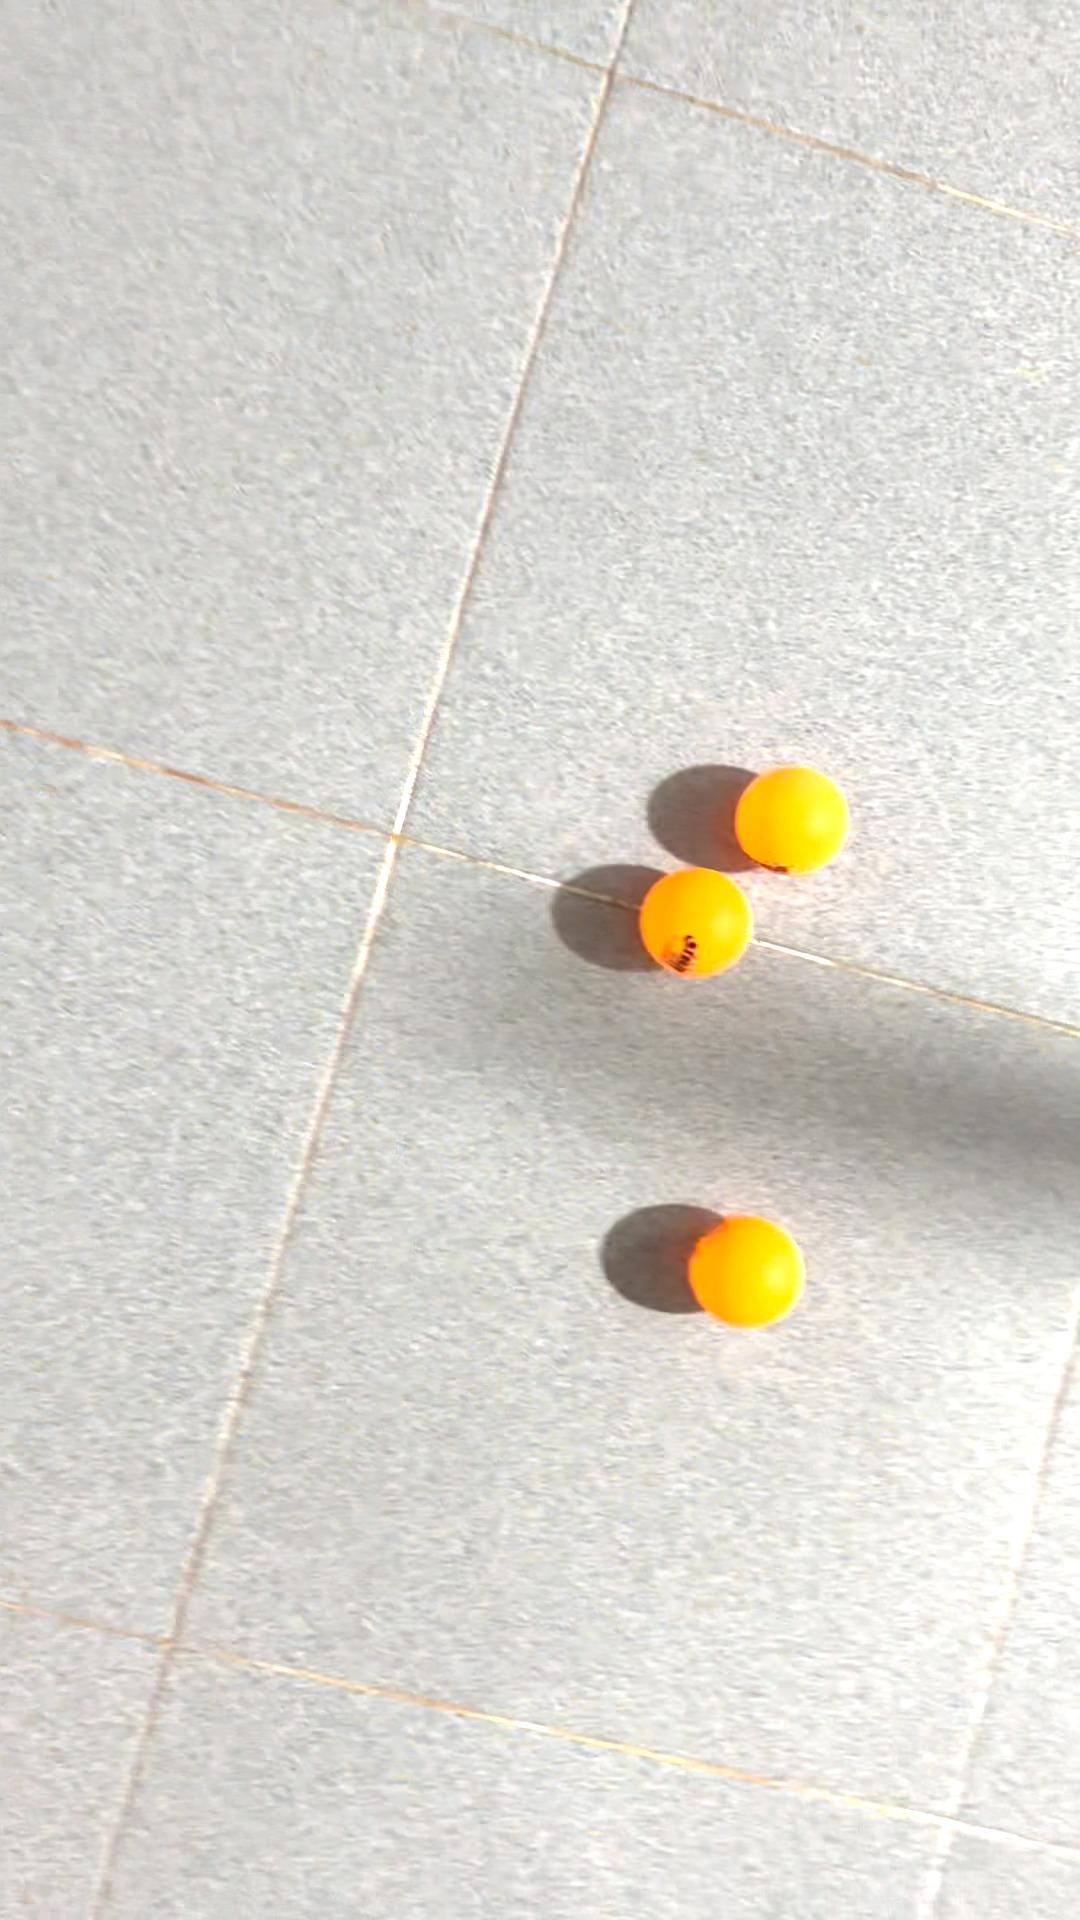oball: (667, 1195, 815, 1341), (724, 752, 848, 884), (641, 865, 762, 986)
